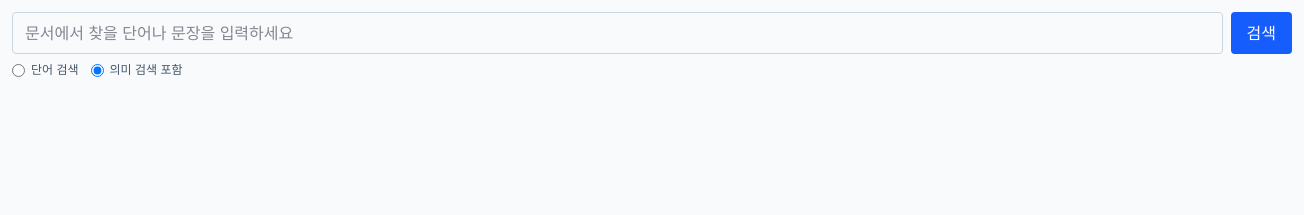
Test: DocumentSearch › 검색 실패 시 다시 시도할 수 있다
Type "심장" into the search field at [617, 33], box [12,12,1222,54]
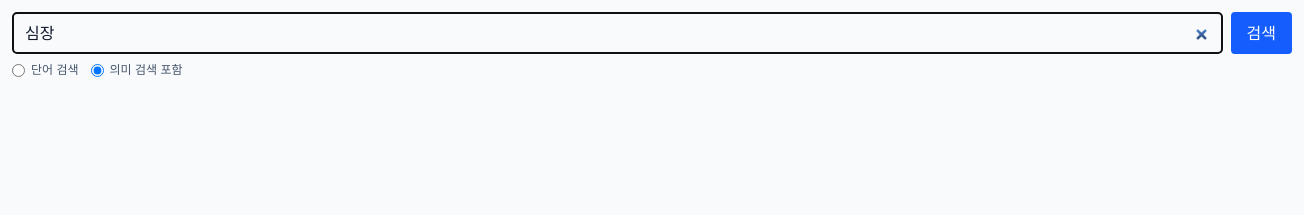
Click the button "검색" at [1261, 33], box [1230,12,1292,54]
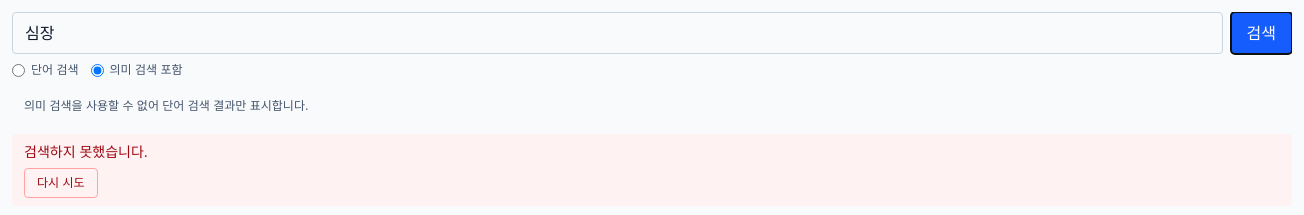
Result: the text "검색하지 못했습니다." is shown at [24,143,148,160]
